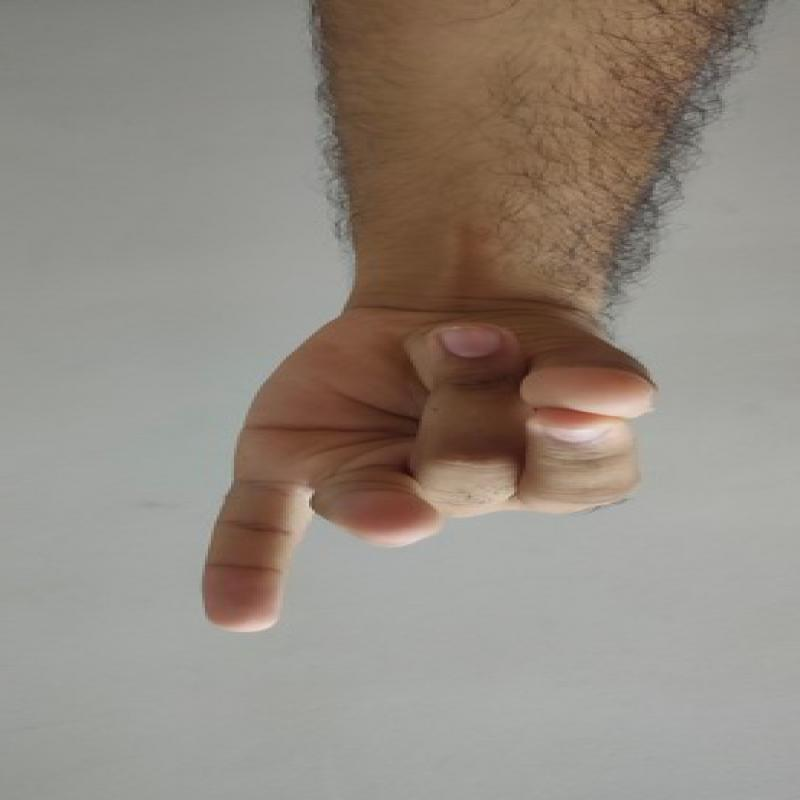Katakam: (169, 268, 672, 661)
